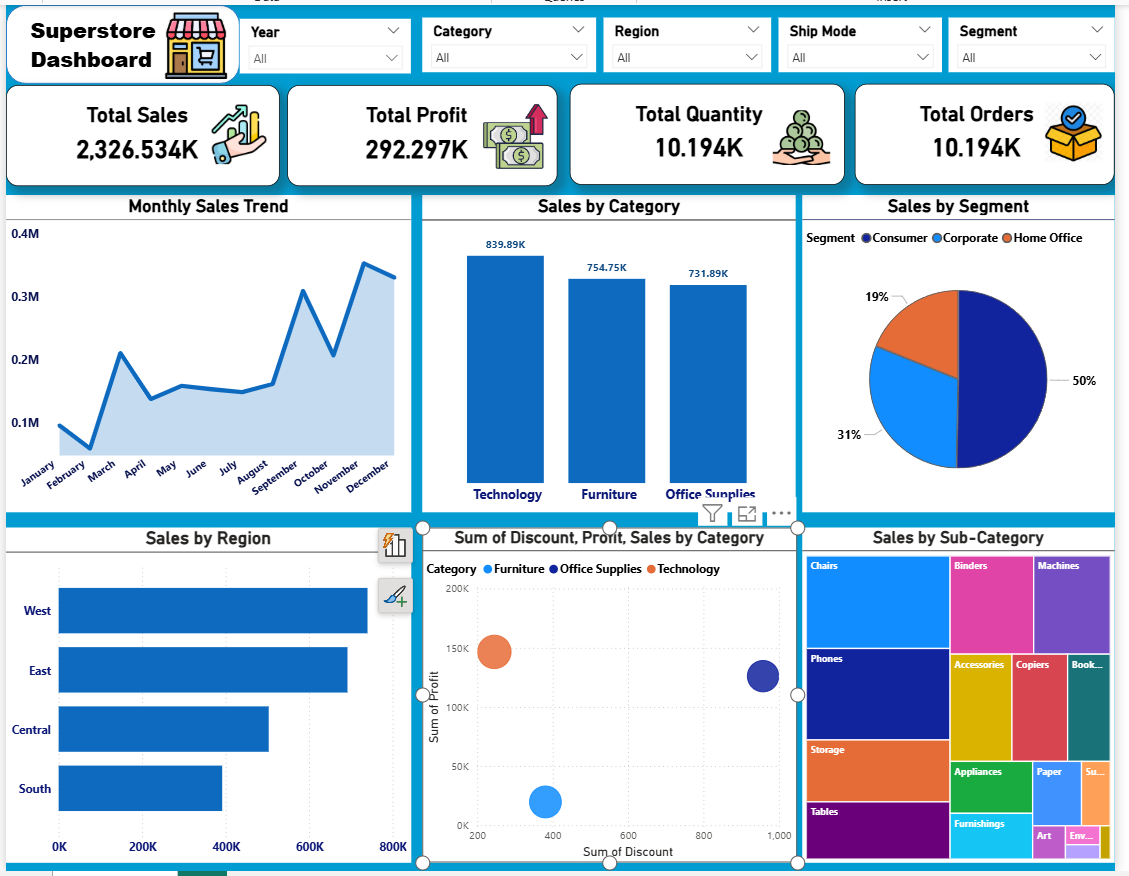

Layout of this report page (visuals, bound fields, positions):
{"tool":"powerbi","page":{"name":"Dashboard","canvas":[1280,1000],"ordinal":0},"visuals":[{"type":"slicer","fields":{"Values":["Orders.Segment"]},"box":[1088.3,14.4,192,63.5],"z":0},{"type":"slicer","fields":{"Values":["Orders.Region"]},"box":[690,14.4,193.4,63.5],"z":1000},{"type":"slicer","fields":{"Values":["Orders.Category"]},"box":[480.7,14.4,200.6,63.5],"z":2000},{"type":"slicer","fields":{"Values":["Orders.Order Date.Variation.Date Hierarchy.Year"]},"box":[269.9,15.9,197.7,63.5],"z":3000,"group":"g2"},{"type":"areaChart","title":" Monthly Sales Trend","fields":{"Category":["Orders.Order Date.Variation.Date Hierarchy.Month"],"Y":["Sum(Orders.Sales)"]},"box":[0,219.4,467.7,366.6],"z":3000},{"type":"pieChart","title":"Sales by Segment","fields":{"Y":["Sum(Orders.Sales)"],"Category":["Orders.Segment"]},"box":[919.5,219.4,360.9,366.6],"z":4000},{"type":"clusteredColumnChart","title":"Sales by Category","fields":{"Category":["Orders.Category"],"Y":["Sum(Orders.Sales)"]},"box":[480.7,219.4,431.6,366.6],"z":5000},{"type":"slicer","fields":{"Values":["Orders.Ship Mode"]},"box":[892,14.4,189.1,63.5],"z":6000},{"type":"card","title":"Total Quantity","fields":{"Values":["CountNonNull(Orders.Quantity)"]},"box":[651,90.9,317.6,116.9],"z":6000,"group":"g4"},{"type":"card","title":"Total Orders","fields":{"Values":["CountNonNull(Orders.Order ID)"]},"box":[980.1,90.9,300.2,116.9],"z":7000,"group":"g5"},{"type":"card","title":"Total Sales","fields":{"Values":["Sum(Orders.Sales)"]},"box":[0,92.4,316.1,116.9],"z":7000,"group":"g2"},{"type":"barChart","title":"Sales by Region","fields":{"Y":["Sum(Orders.Sales)"],"Category":["Orders.Region"]},"box":[0,603.4,467.7,386.8],"z":7000},{"type":"card","title":"Total Profit","fields":{"Values":["Sum(Orders.Profit)"]},"box":[324.8,92.4,311.8,116.9],"z":8000,"group":"g3"},{"type":"scatterChart","title":"Sum of Discount,  Profit, Sales by Category","fields":{"X":["Sum(Orders.Discount)"],"Y":["Sum(Orders.Profit)"],"Size":["Sum(Orders.Sales)"],"Series":["Orders.Category"]},"box":[481,603,432,387],"z":8000},{"type":"treemap","title":" Sales by Sub-Category","fields":{"Values":["Sum(Orders.Sales)"],"Group":["Orders.Sub-Category"]},"box":[919.5,603.4,360.9,386.8],"z":9000},{"type":"group","id":"g1","title":"Group 1","box":[0,0,269.9,90.9],"z":10000},{"type":"image","box":[177.5,8.7,83.7,76.5],"z":11000},{"type":"group","id":"g2","title":"Group 2","box":[0,15.9,467.7,193.4],"z":12000},{"type":"image","box":[883.4,111.1,70.7,83.7],"z":12000,"group":"g4"},{"type":"group","id":"g3","title":"Group 3","box":[324.8,92.4,311.8,116.9],"z":13000},{"type":"image","box":[1196.6,105.3,72.2,82.3],"z":13000,"group":"g5"},{"type":"group","id":"g4","title":"Group 4","box":[651,90.9,317.6,116.9],"z":14000},{"type":"shape","box":[0,0,269.9,90.9],"z":15000,"group":"g1"},{"type":"group","id":"g5","title":"Group 5","box":[980.1,90.9,300.2,116.9],"z":15000},{"type":"textbox","box":[23.8,7.2,234.3,76.5],"z":16000,"group":"g1"},{"type":"image","box":[233.8,105.6,70.7,88],"z":17000,"group":"g2"},{"type":"image","box":[546,109.2,85.2,83.7],"z":18001,"group":"g3"}]}

Visuals, with their boxes in screenshot pixels (x1, y1, x2, y2), scaled from the page's 1280x1000 canvas onto the 1129x876 screenshot:
slicer - Orders.Segment: BBox(960, 13, 1128, 68)
slicer - Orders.Region: BBox(609, 13, 779, 68)
slicer - Orders.Category: BBox(424, 13, 601, 68)
slicer - Orders.Order Date.Variation.Date Hierarchy.Year: BBox(238, 14, 412, 70)
" Monthly Sales Trend" areaChart: BBox(0, 192, 413, 513)
"Sales by Segment" pieChart: BBox(811, 192, 1128, 513)
"Sales by Category" clusteredColumnChart: BBox(424, 192, 805, 513)
slicer - Orders.Ship Mode: BBox(787, 13, 954, 68)
"Total Quantity" card: BBox(574, 80, 854, 182)
"Total Orders" card: BBox(864, 80, 1128, 182)
"Total Sales" card: BBox(0, 81, 279, 183)
"Sales by Region" barChart: BBox(0, 529, 413, 867)
"Total Profit" card: BBox(286, 81, 562, 183)
"Sum of Discount,  Profit, Sales by Category" scatterChart: BBox(424, 528, 805, 867)
" Sales by Sub-Category" treemap: BBox(811, 529, 1128, 867)
"Group 1" group: BBox(0, 0, 238, 80)
image: BBox(157, 8, 230, 75)
"Group 2" group: BBox(0, 14, 413, 183)
image: BBox(779, 97, 842, 171)
"Group 3" group: BBox(286, 81, 562, 183)
image: BBox(1055, 92, 1119, 164)
"Group 4" group: BBox(574, 80, 854, 182)
shape: BBox(0, 0, 238, 80)
"Group 5" group: BBox(864, 80, 1128, 182)
textbox: BBox(21, 6, 228, 73)
image: BBox(206, 93, 269, 170)
image: BBox(482, 96, 557, 169)
